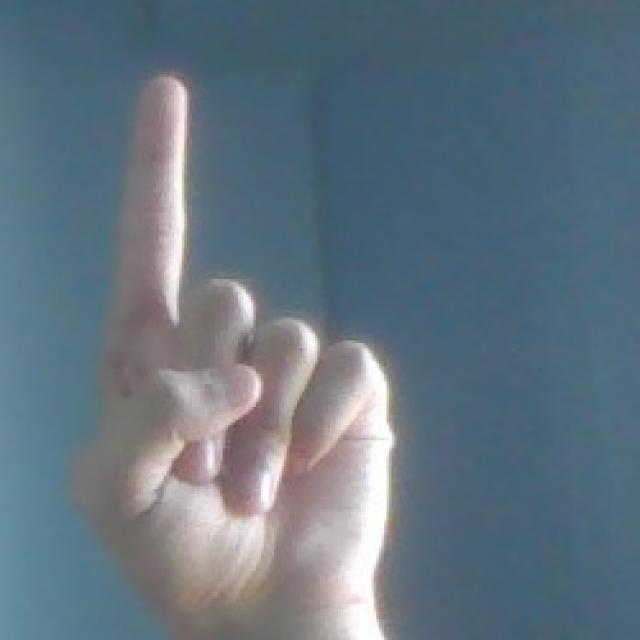Numeric-1: (72, 77, 392, 630)
